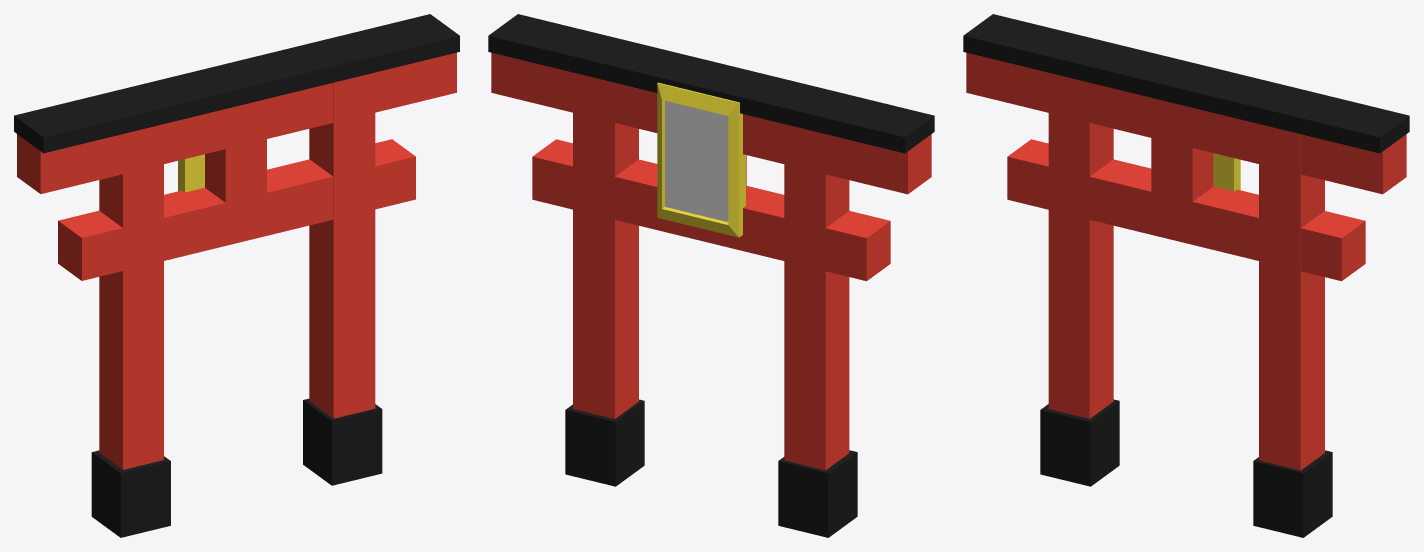
Rendered from torii by sugamo - 8ZgGY1XCfuR.glb.
The picture shows the model from 3 angles, left to right: view 1: azimuth 30°, elevation 25°; view 2: azimuth 150°, elevation 25°; view 3: azimuth 330°, elevation 25°; orthographic projection.
Parts seen in each view (by area): view 1: group1199456502, group802804228, group2016123193, group196782659, group1909196507, group494822094, group695373010, group16174133, group231719158; view 2: group1199456502, group802804228, group2016123193, group196782659, group1909196507, group231719158, group494822094, group695373010; view 3: group1199456502, group2016123193, group802804228, group196782659, group1909196507, group494822094, group695373010, group16174133, group231719158.
Boxes of the visible parts, bbox=[...] form: group1199456502: bbox=[309, 72, 375, 418]; group802804228: bbox=[14, 14, 459, 153]; group2016123193: bbox=[99, 124, 163, 469]; group196782659: bbox=[58, 139, 415, 280]; group1909196507: bbox=[17, 52, 456, 193]; group494822094: bbox=[91, 450, 170, 537]; group695373010: bbox=[303, 398, 382, 485]; group16174133: bbox=[205, 107, 266, 213]; group231719158: bbox=[178, 154, 204, 192]; group1199456502: bbox=[573, 72, 638, 418]; group802804228: bbox=[488, 14, 934, 153]; group2016123193: bbox=[784, 164, 849, 470]; group196782659: bbox=[532, 139, 890, 281]; group1909196507: bbox=[491, 52, 931, 194]; group231719158: bbox=[657, 82, 745, 237]; group494822094: bbox=[778, 450, 857, 537]; group695373010: bbox=[565, 399, 644, 486]; group1199456502: bbox=[1259, 124, 1324, 470]; group2016123193: bbox=[1048, 73, 1113, 418]; group802804228: bbox=[963, 14, 1409, 153]; group196782659: bbox=[1007, 139, 1365, 281]; group1909196507: bbox=[966, 52, 1406, 194]; group494822094: bbox=[1040, 399, 1119, 486]; group695373010: bbox=[1253, 450, 1332, 537]; group16174133: bbox=[1151, 105, 1213, 212]; group231719158: bbox=[1213, 153, 1240, 191].
Bounding box in the file's own units: 0.81 × 0.78 × 0.1127.
